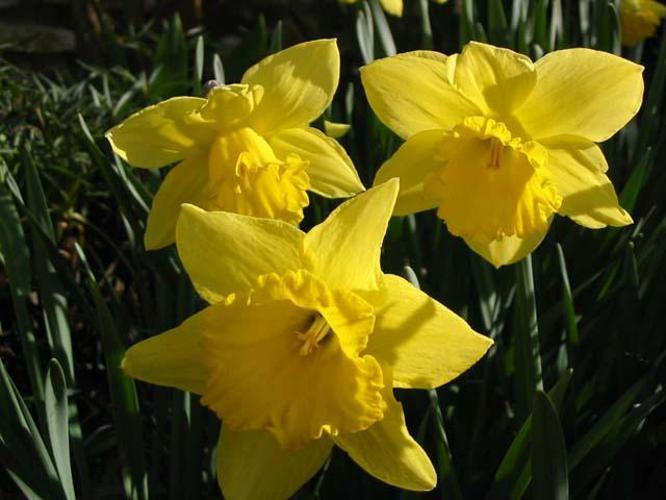flower1: (122, 176, 495, 494), (360, 40, 646, 268), (105, 38, 368, 251)
